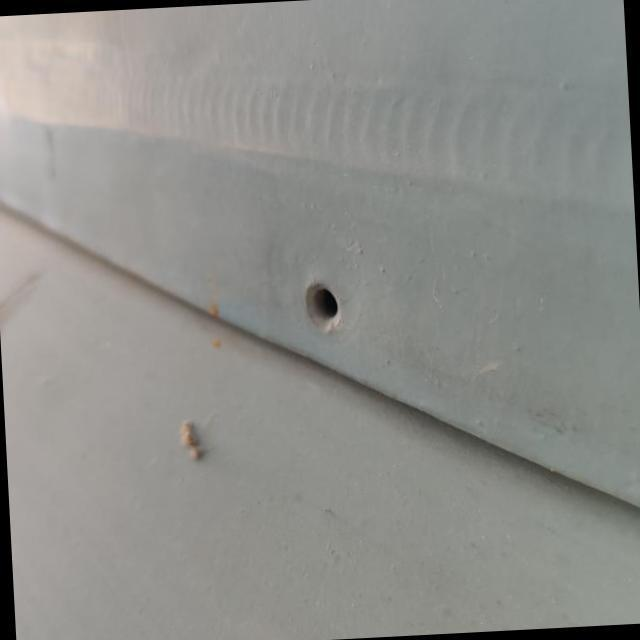Missing Fastener: (300, 279, 348, 335)
